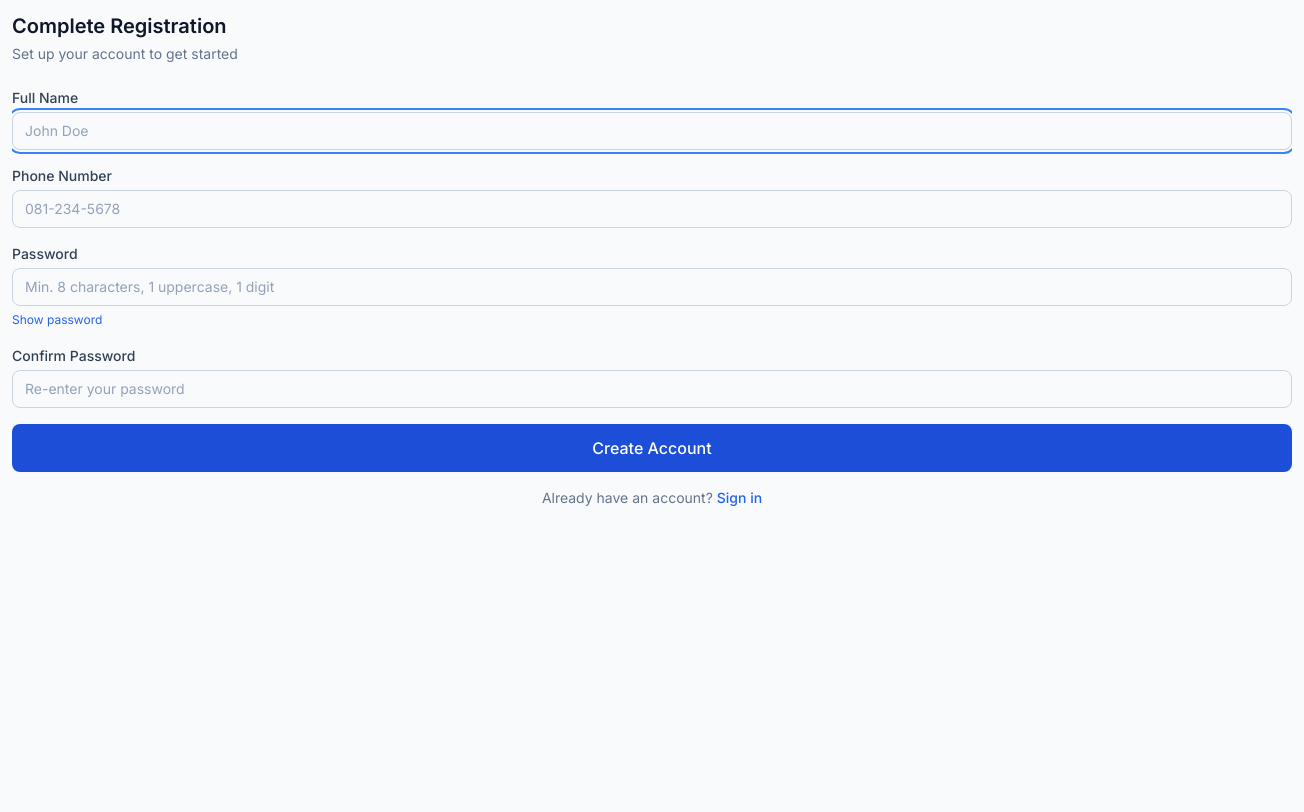
RegisterPage › shows validation errors for empty fields
Click the button "Create Account" at [652, 448], box [12,424,1292,472]
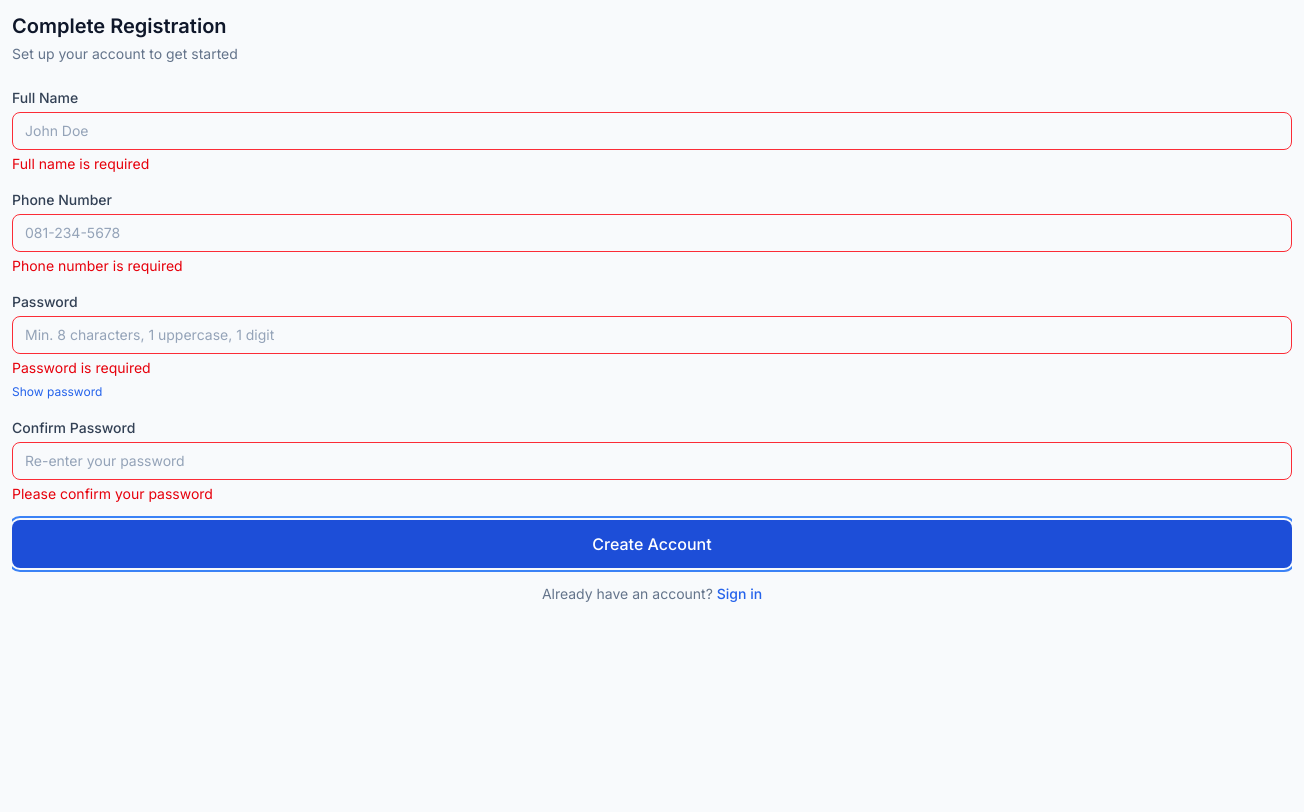
Expected: the text "Full name is required" is shown, [12,155,149,172]
Expected: the text "Phone number is required" is shown, [12,257,183,274]
Expected: the text "Password is required" is shown, [12,359,151,376]
